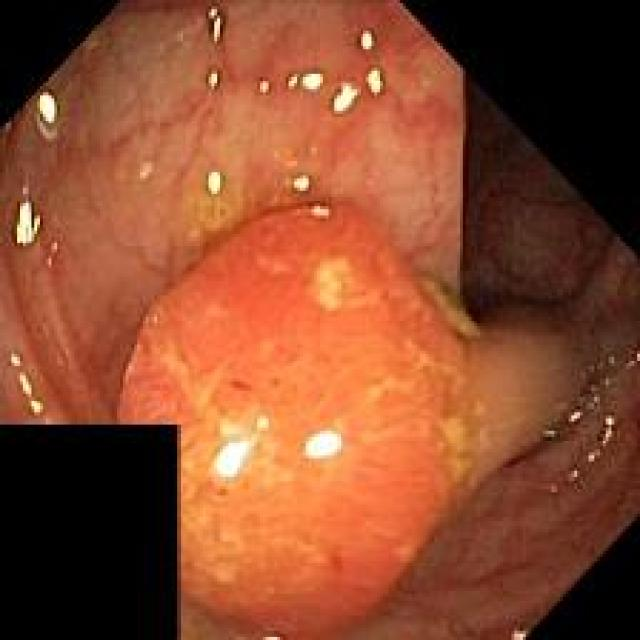Polyps: (118, 205, 465, 637)
